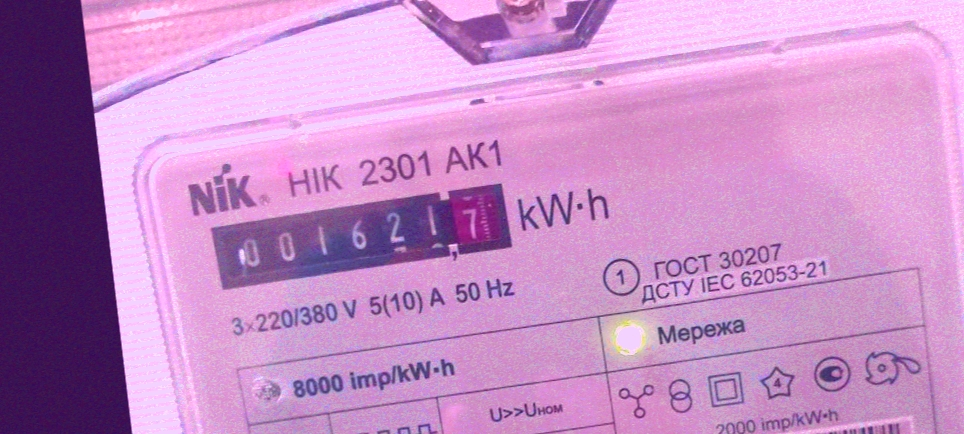0: (274, 223, 300, 262), (240, 229, 263, 265)
1: (423, 196, 441, 235), (314, 217, 332, 255)
2: (384, 204, 409, 242)
6: (347, 213, 370, 249)
7: (459, 200, 483, 238)
screen: (205, 175, 520, 292)
